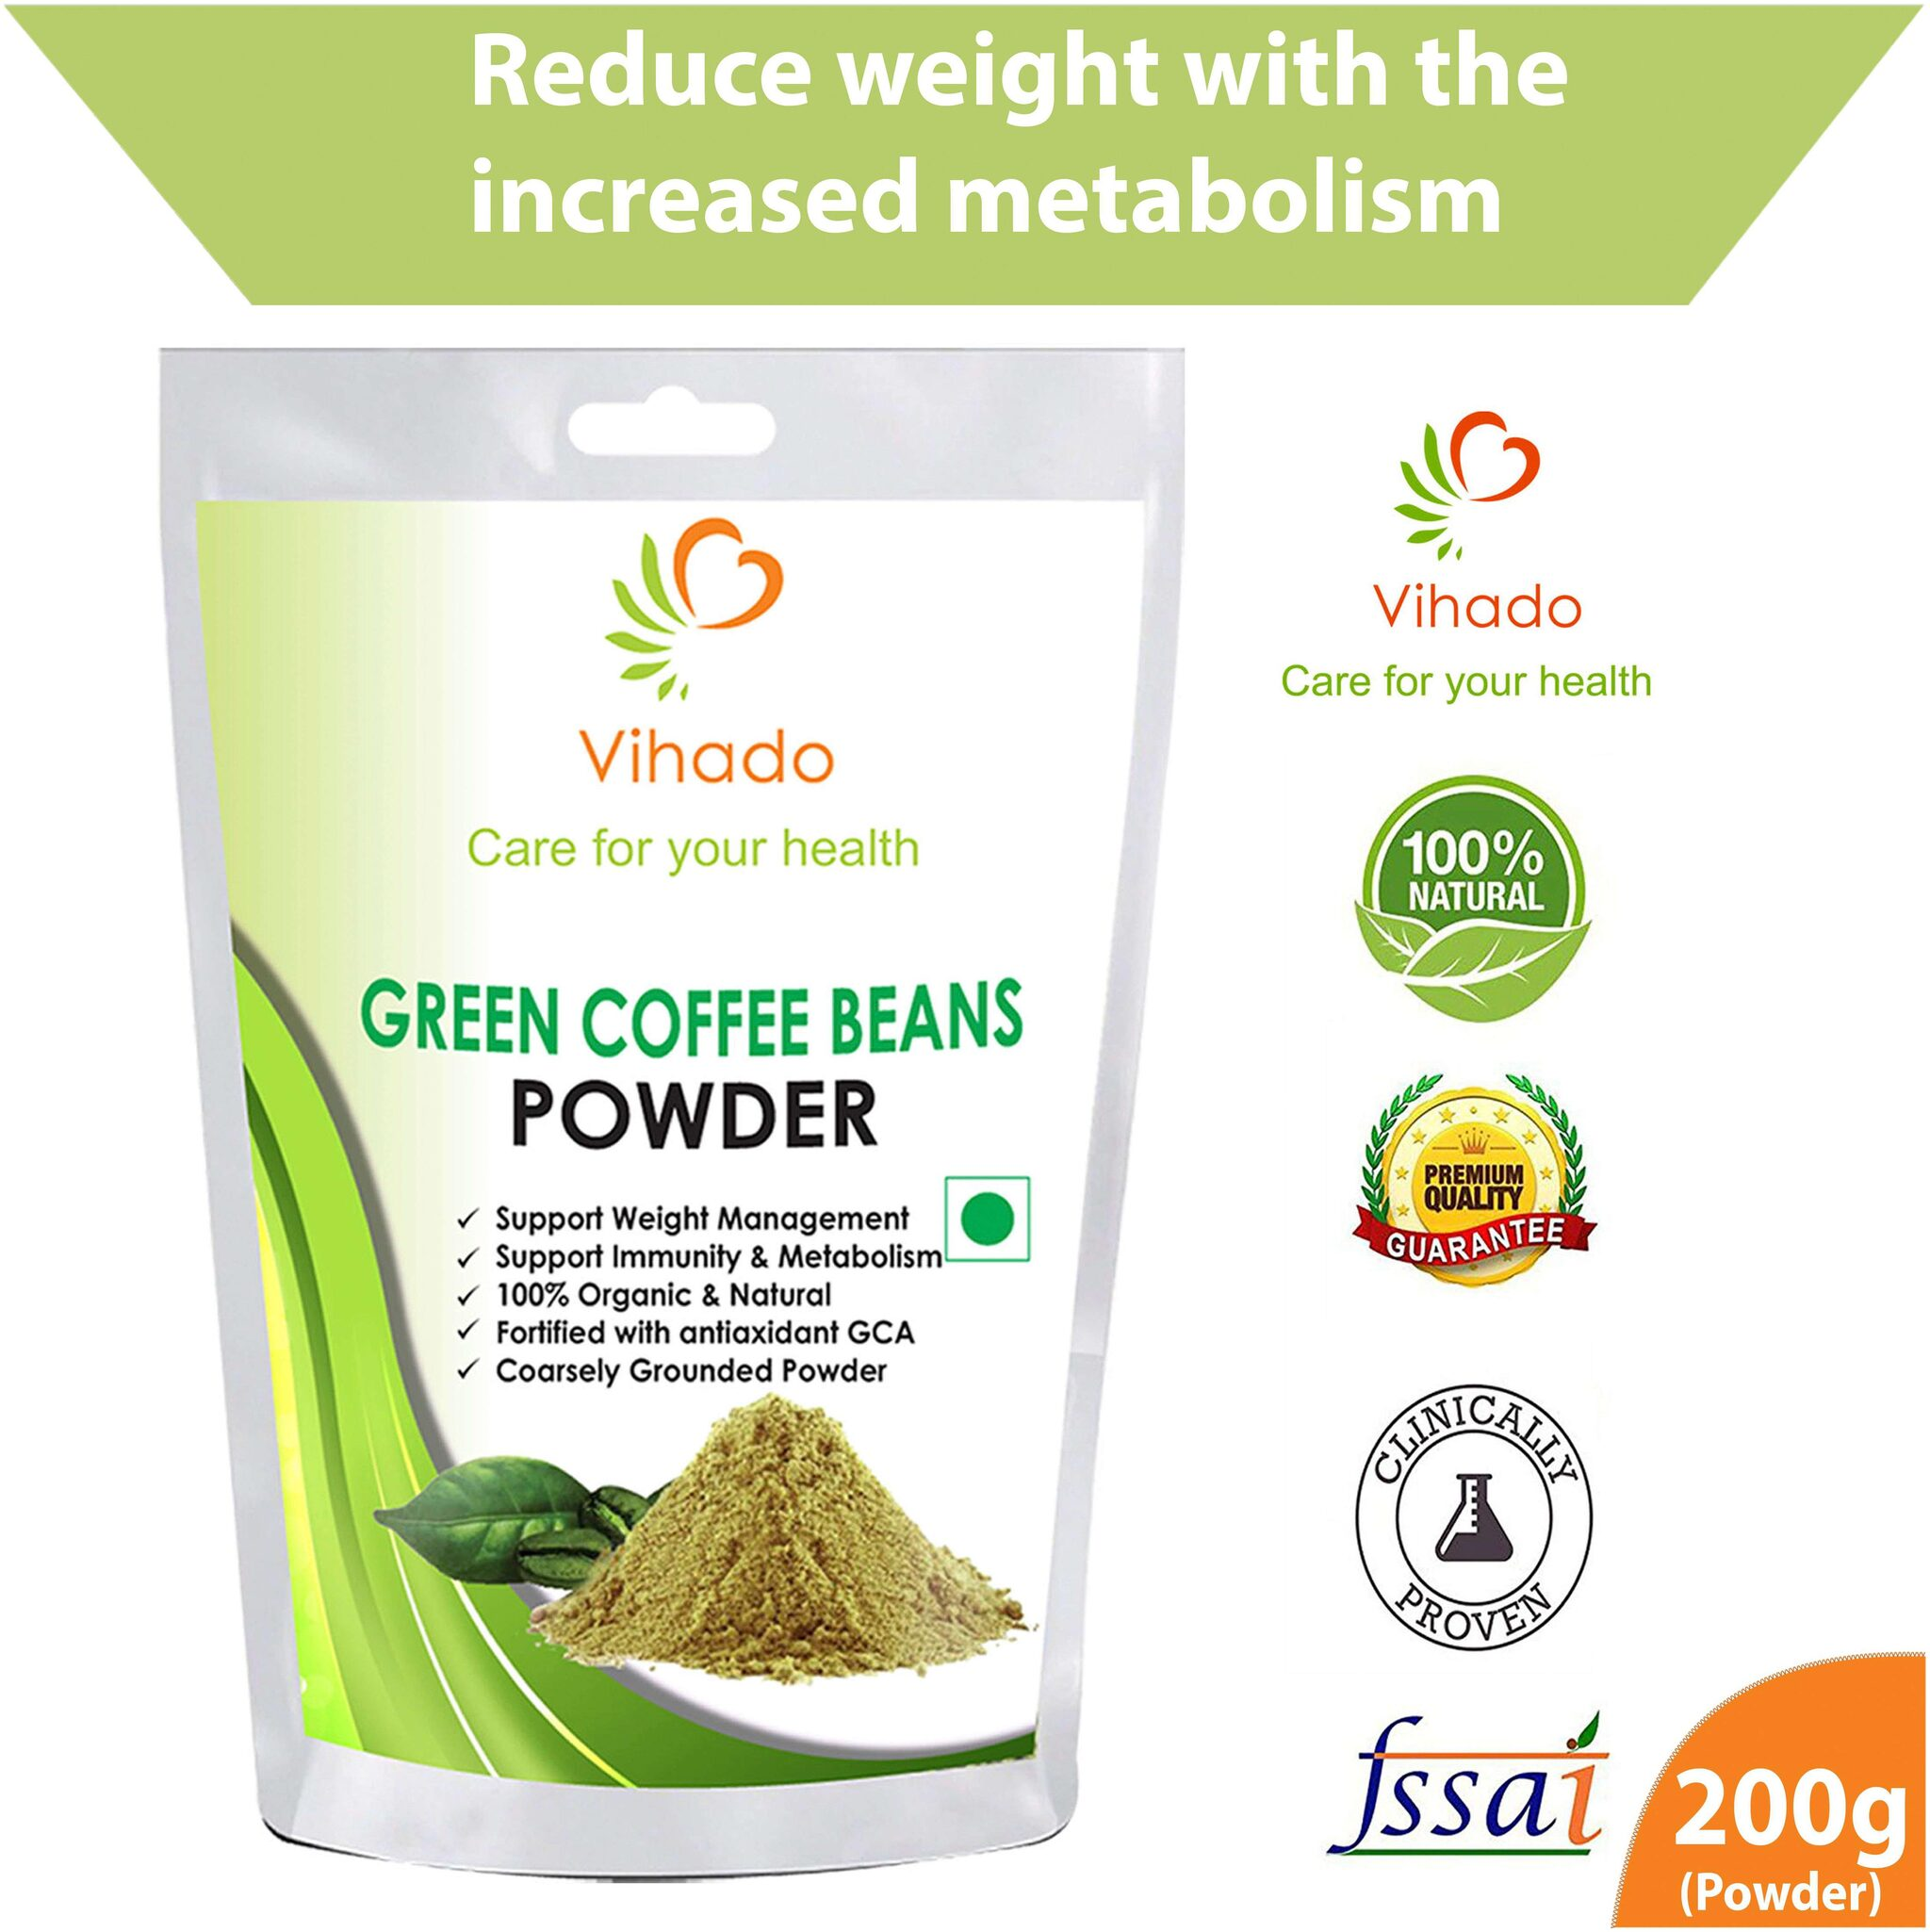fssai: (1313, 1708, 1617, 1861)
